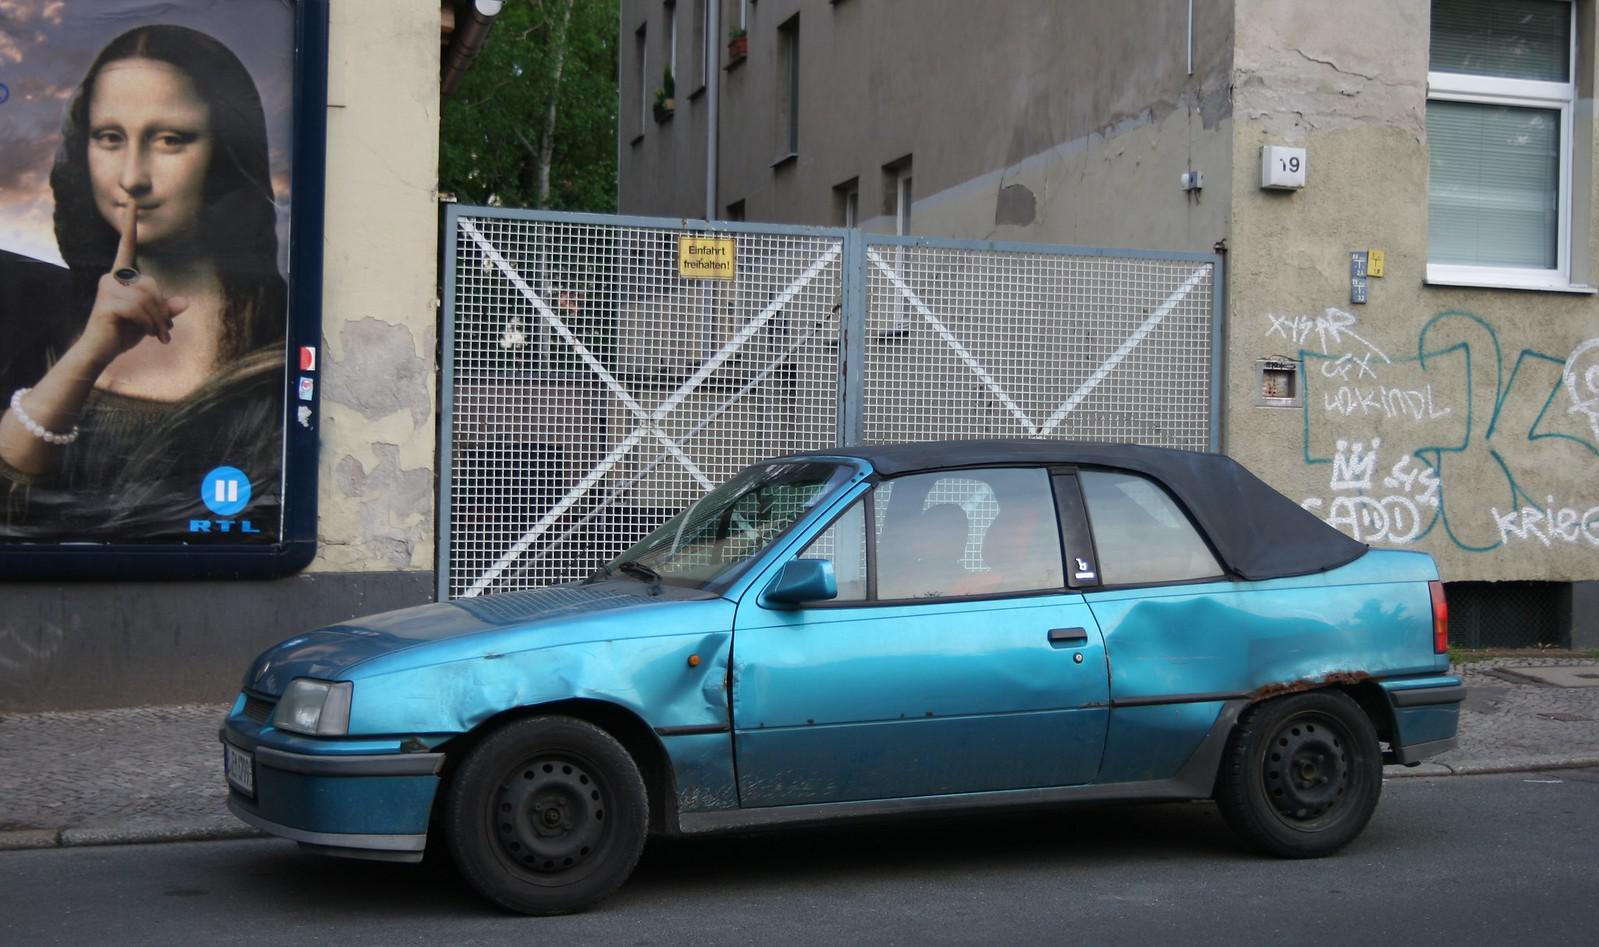fender-dent: (334, 643, 752, 747)
quaterpanel-dent: (1096, 585, 1387, 747)
